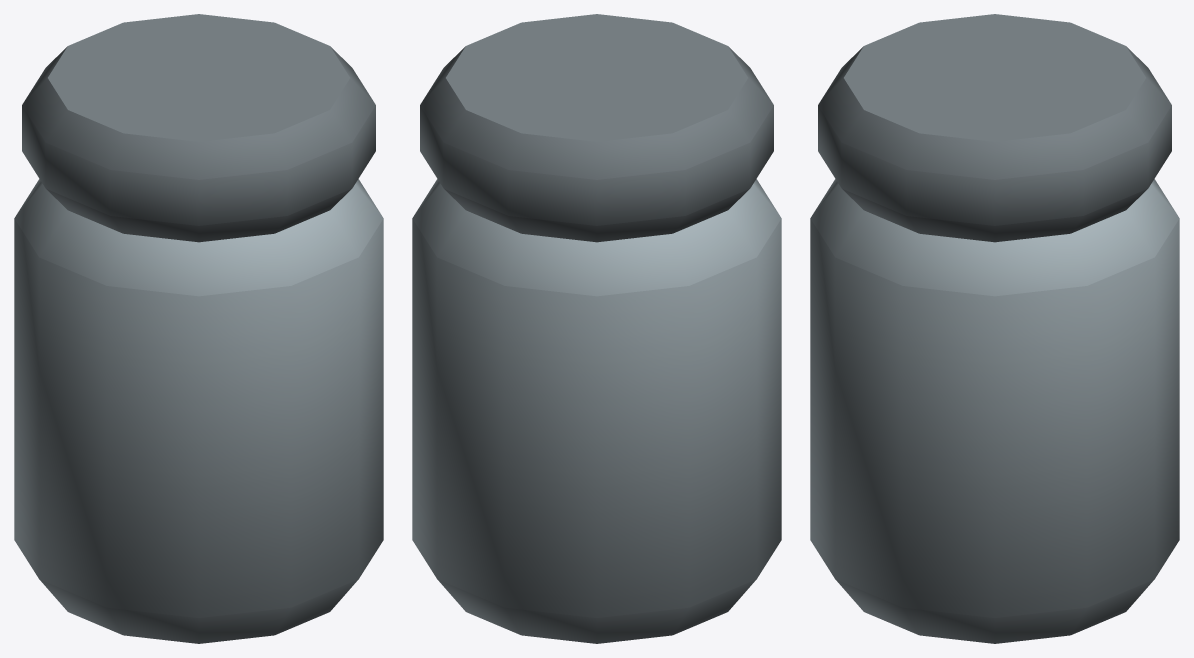
The model's file is jar_B_large.obj.
3 views of the same model, side by side, from view 1: azimuth 30°, elevation 25°; view 2: azimuth 150°, elevation 25°; view 3: azimuth 270°, elevation 25° (orthographic).
Visible parts, largest first — view 1: jar_B_large_Cylinder.263; view 2: jar_B_large_Cylinder.263; view 3: jar_B_large_Cylinder.263.
Boxes of the visible parts, box(x1,y1,x2,y2) form: jar_B_large_Cylinder.263: box(14, 14, 383, 643); jar_B_large_Cylinder.263: box(412, 14, 781, 643); jar_B_large_Cylinder.263: box(810, 14, 1179, 643).
Bounding box in the file's own units: 0.5 × 0.75 × 0.5.
1 material, 1 textured.
